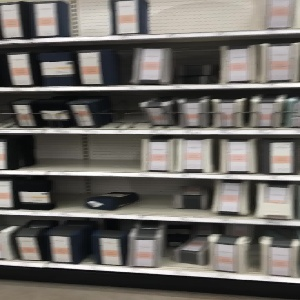void: (52, 176, 210, 218), (18, 135, 141, 170), (145, 1, 263, 35), (161, 219, 208, 270), (173, 46, 220, 84), (102, 91, 145, 127), (69, 1, 108, 35)
